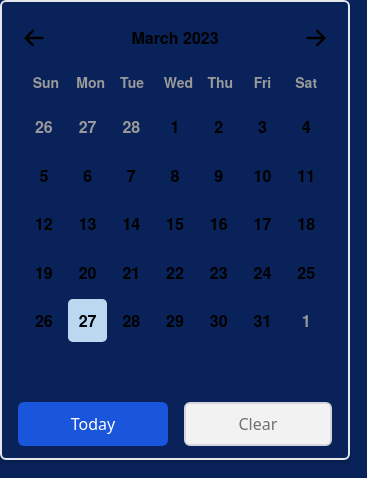
Test: Date Picker Component Functionality › Month picker is opened after year is selected
Click the text with test id "datepicker-monthyear" at coordinates (175, 38), box [131, 26, 219, 49]
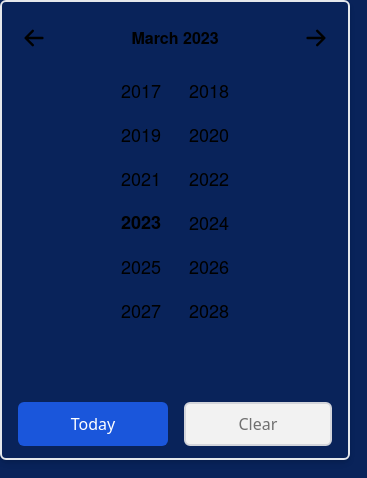
Click the text with class "react-datepicker__year-text" showing "2017" at coordinates (141, 90), box [121, 77, 161, 103]
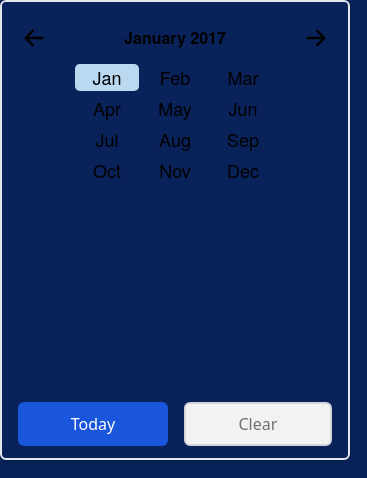
Expected: the element with class "react-datepicker__month-wrapper" showing "Jan Feb Mar" is shown, [75, 64, 258, 91]
